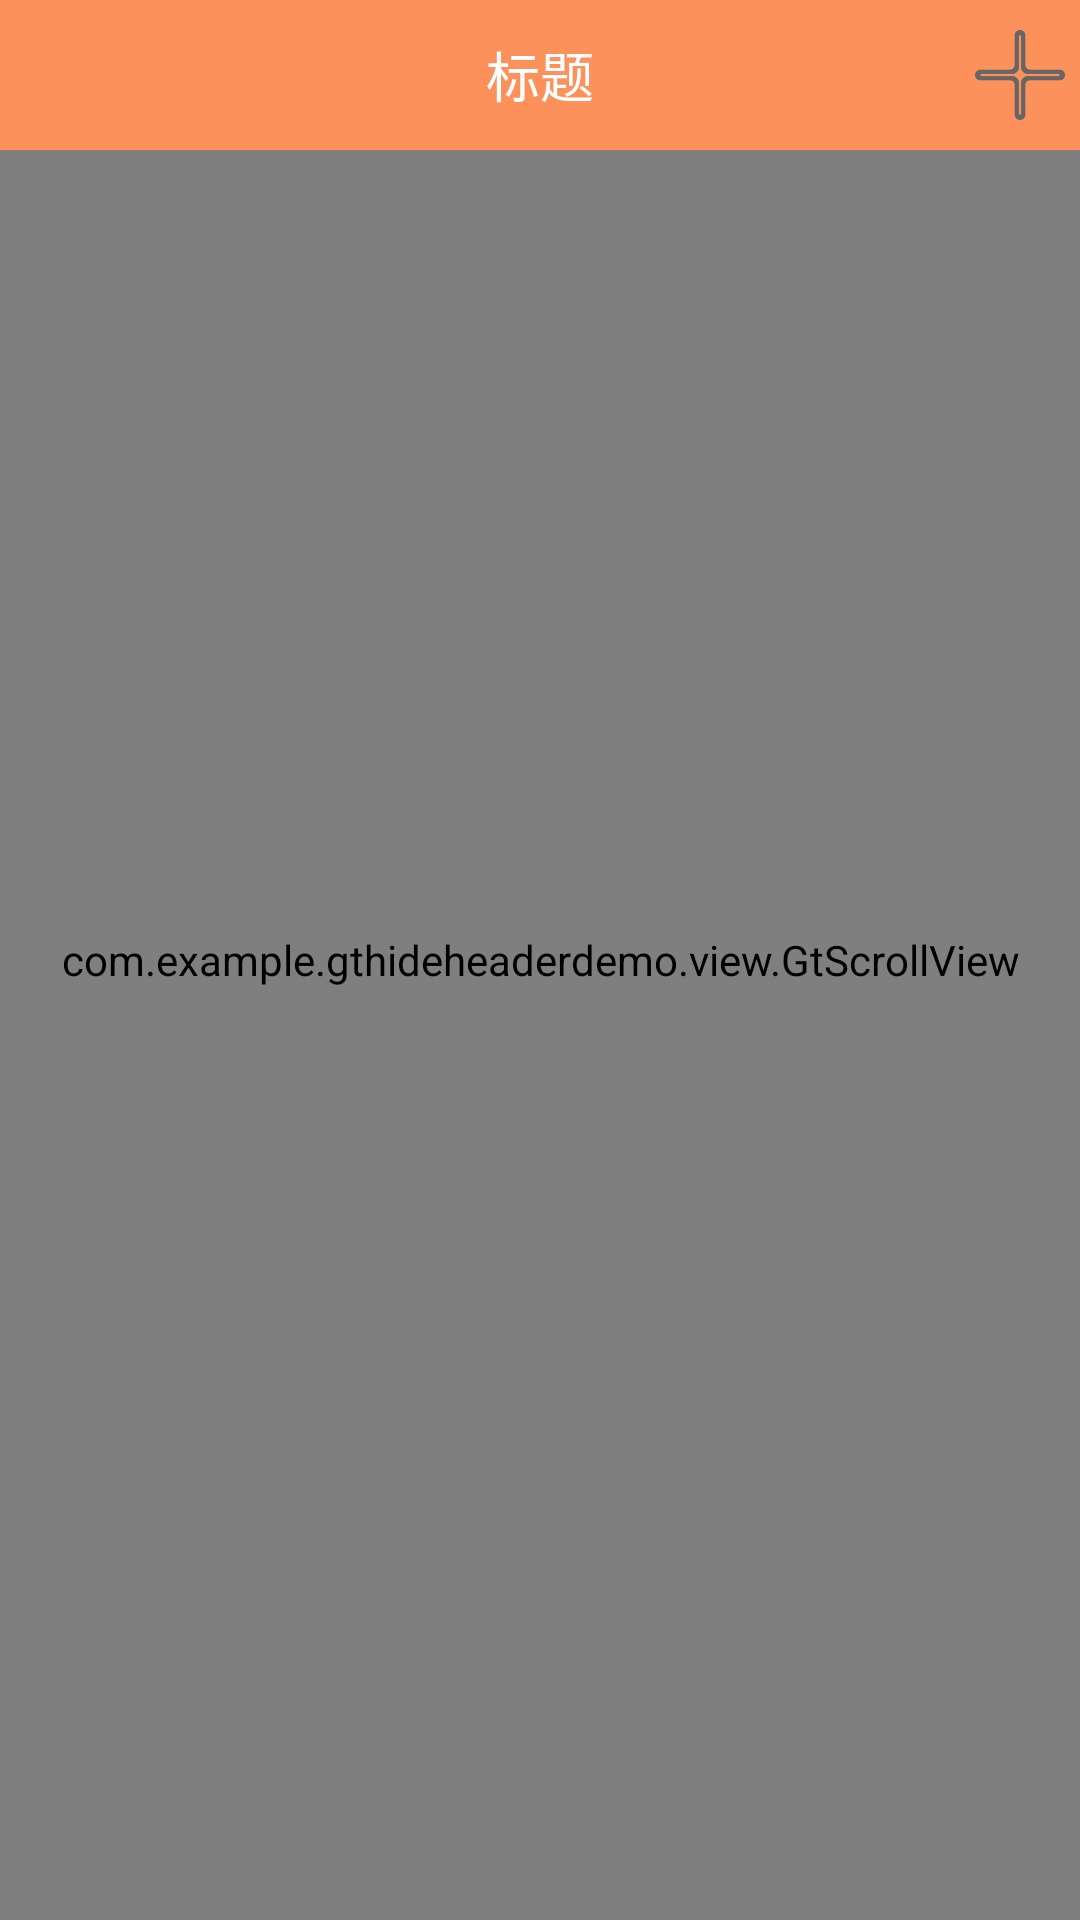

Where to tap for icons on this 1080px x 1920px app screen, as (x,y):
add: (1020,75)
